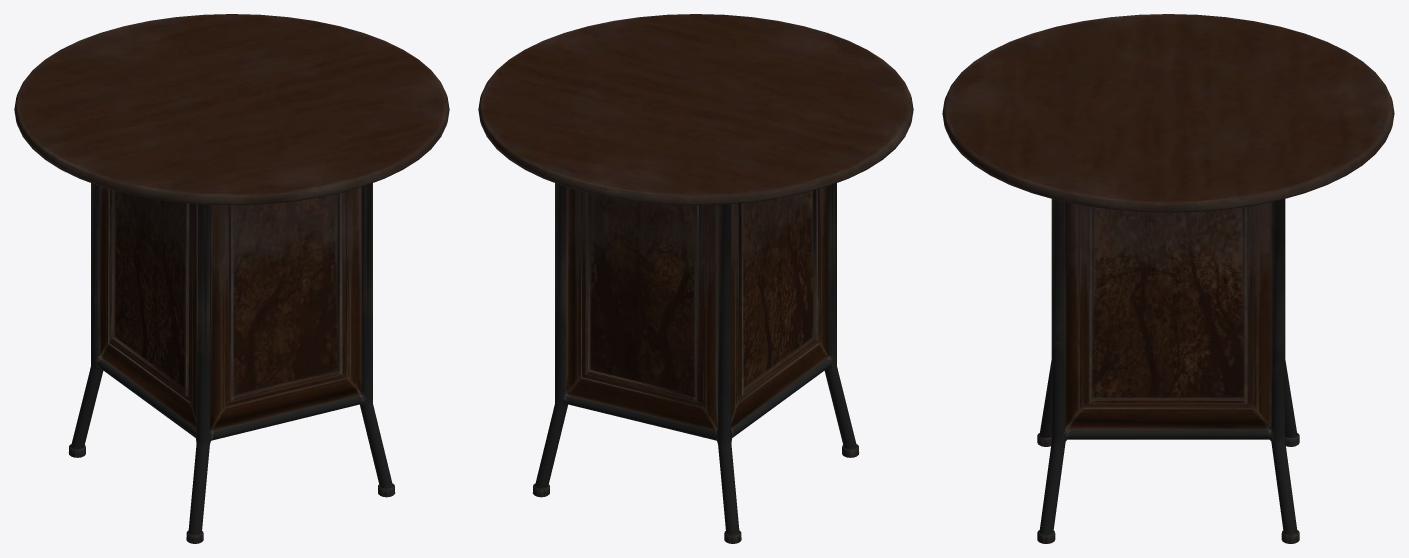
File: round_wooden_table_02.glb
3 views of the same model, side by side, from view 1: azimuth 30°, elevation 25°; view 2: azimuth 150°, elevation 25°; view 3: azimuth 270°, elevation 25° (orthographic). The views are drawn at different scales.
Parts seen in each view (by area): view 1: round_wooden_table_02; view 2: round_wooden_table_02; view 3: round_wooden_table_02.
Boxes of the visible parts, box(x1,y1,x2,y2) form: round_wooden_table_02: box(14, 14, 449, 543); round_wooden_table_02: box(478, 14, 913, 543); round_wooden_table_02: box(942, 14, 1394, 543).
Bounding box in the file's own units: 0.7962 × 0.7459 × 0.7962.
1 material, 1 textured.
